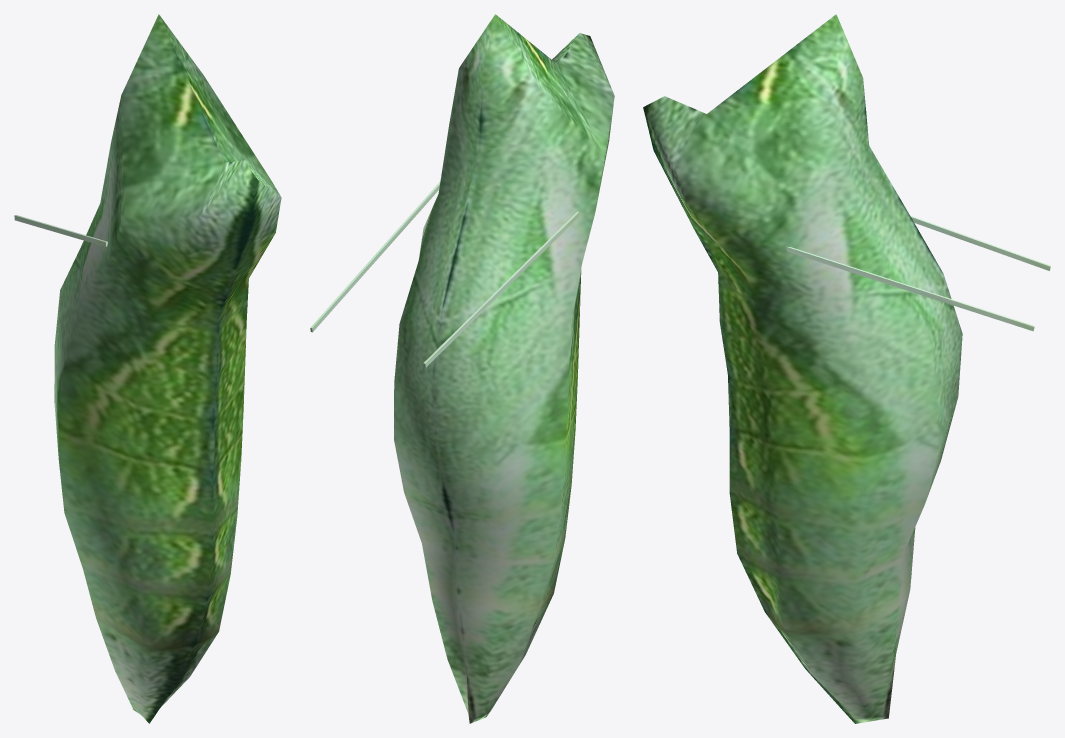
File: Cocoon01.FBX
The picture shows the model from 3 angles, left to right: view 1: azimuth 30°, elevation 25°; view 2: azimuth 150°, elevation 25°; view 3: azimuth 270°, elevation 25°; orthographic projection. The views are drawn at different scales.
Parts seen in each view (by area): view 1: Cocoon01; view 2: Cocoon01; view 3: Cocoon01.
Part boxes in pixels (x1=…): Cocoon01: x1=14, y1=14, x2=281, y2=723; Cocoon01: x1=310, y1=14, x2=614, y2=723; Cocoon01: x1=643, y1=14, x2=1050, y2=723.
Size of the model in its own units: 8.5 by 32.82 by 17.09.
Materials: 1 (1 with a texture image).
